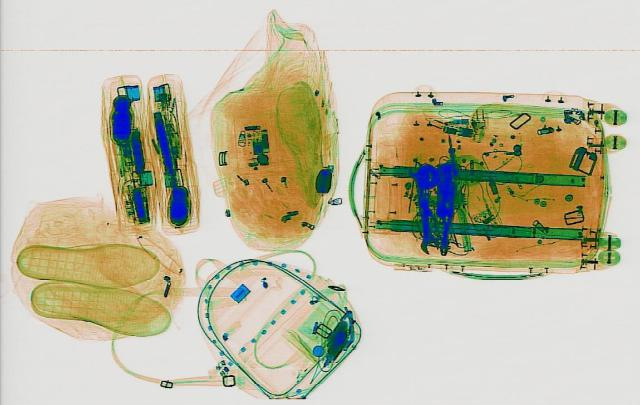Wrench: (406, 159, 442, 252)
